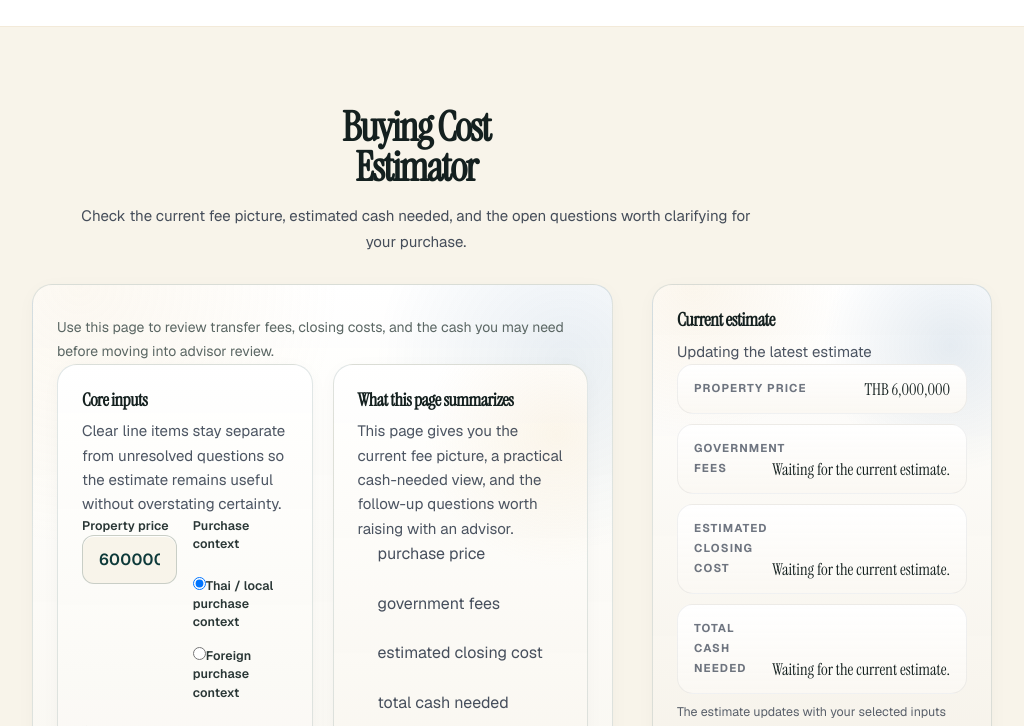
buying cost estimator page shell › updates the live UI preview and advanced fields without introducing formula totals
Replace the text in the field labelled "Property price" with "7250000" at [129, 560], box [82, 535, 177, 584]
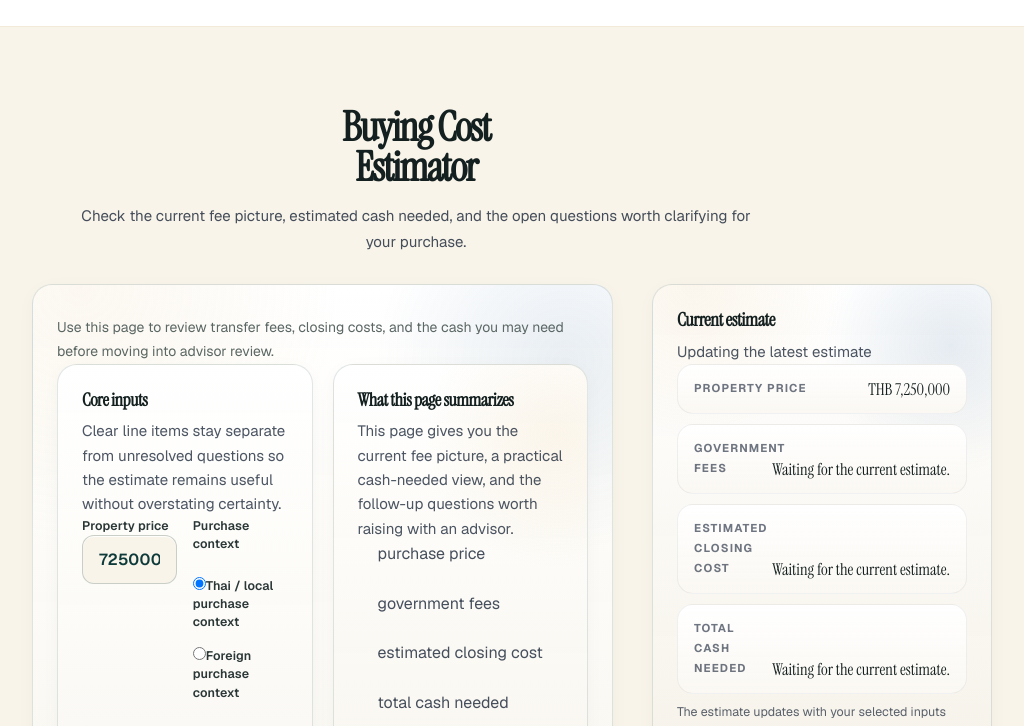
Check: the text "THB 7,250,000" is shown, box [868, 381, 950, 399]
Click the radio button labelled "Foreign purchase context" at [199, 654], box [193, 647, 206, 660]
(page scrolled)
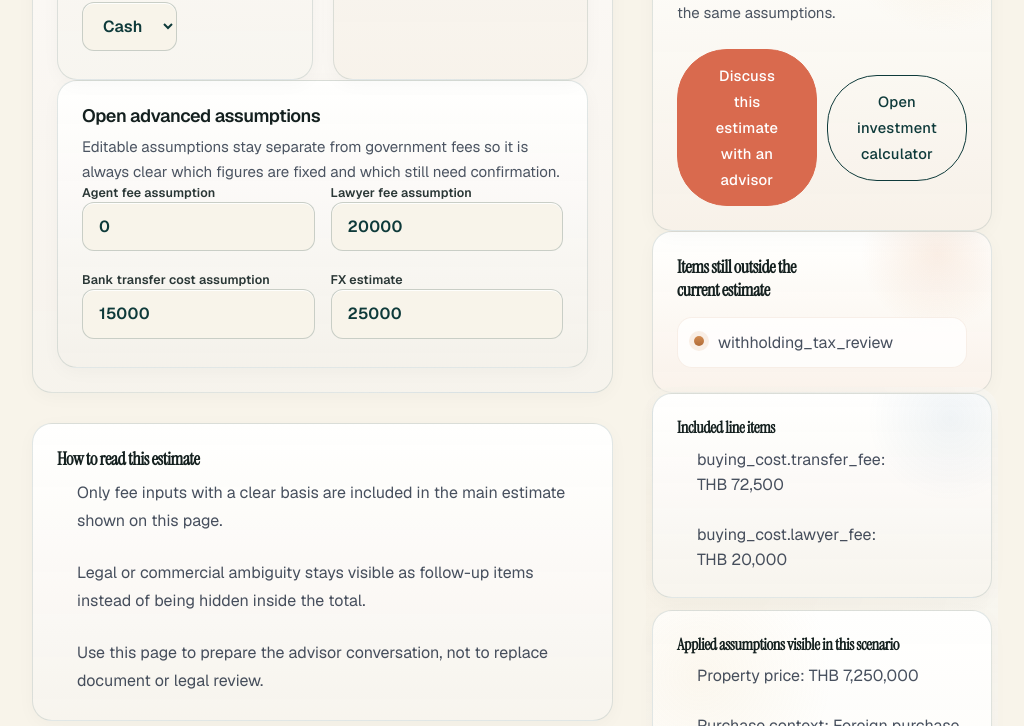
Check: the field labelled "Lawyer fee assumption" is shown, box [330, 202, 563, 251]
Check: the list item "withholding_tax_review" is shown, box [677, 317, 967, 368]
